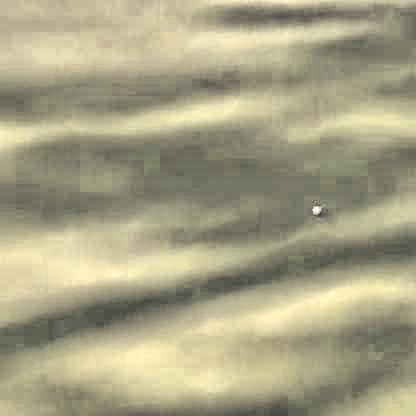golfball: (308, 204, 319, 214)
